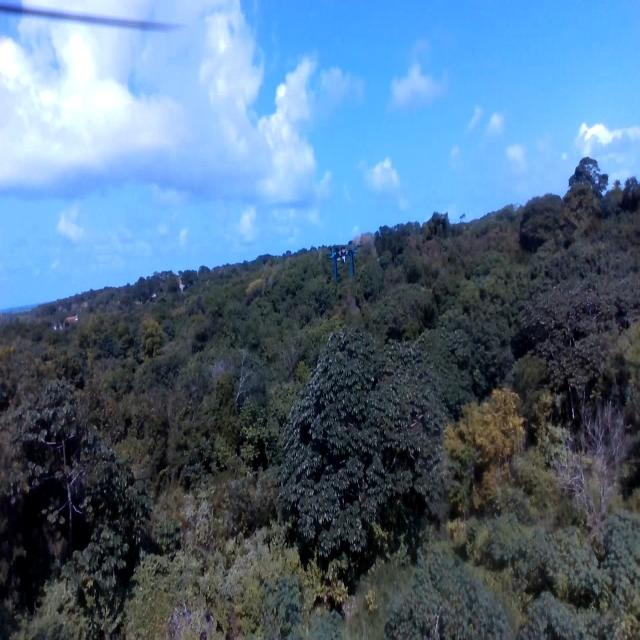-uav-: (325, 236, 358, 282)
